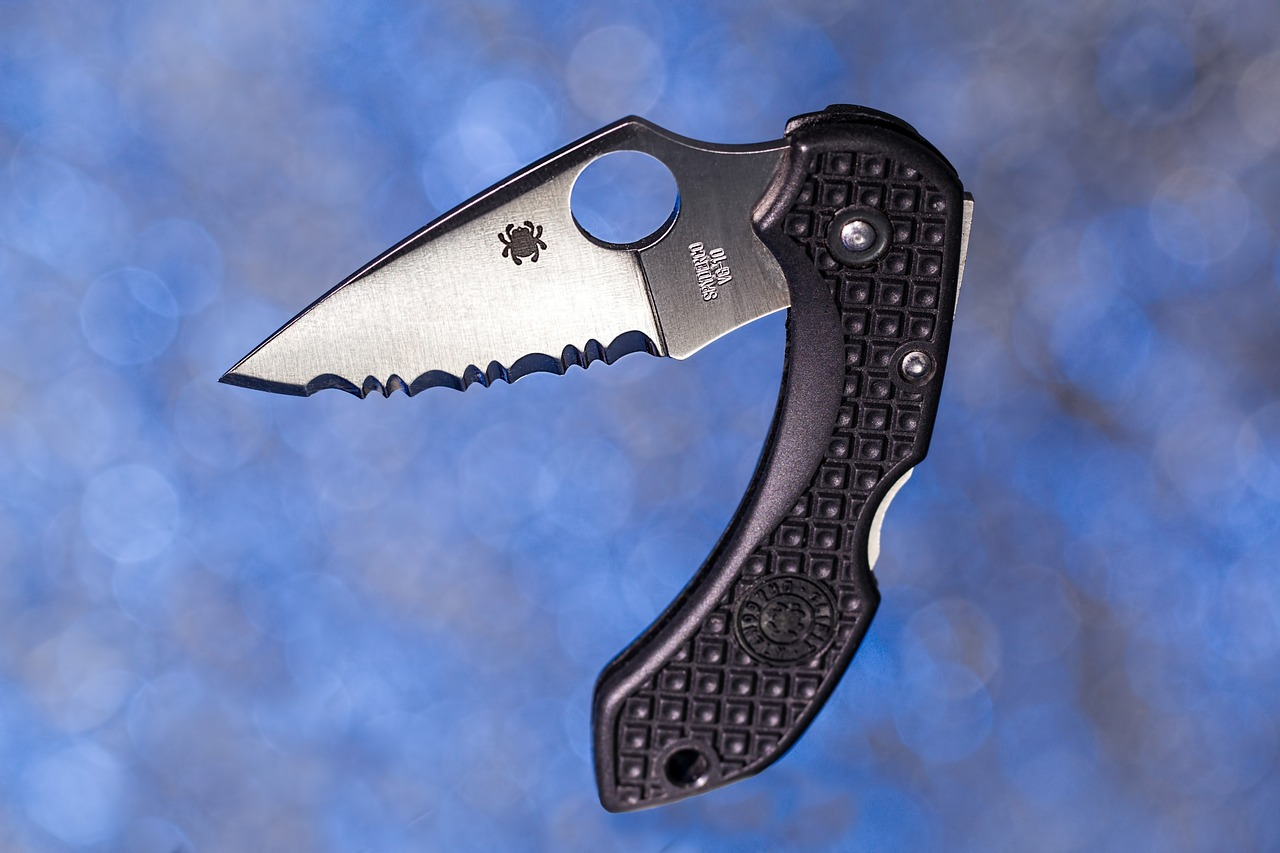knife: (195, 95, 993, 818)
